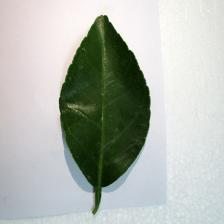healthy: (64, 25, 144, 202)
